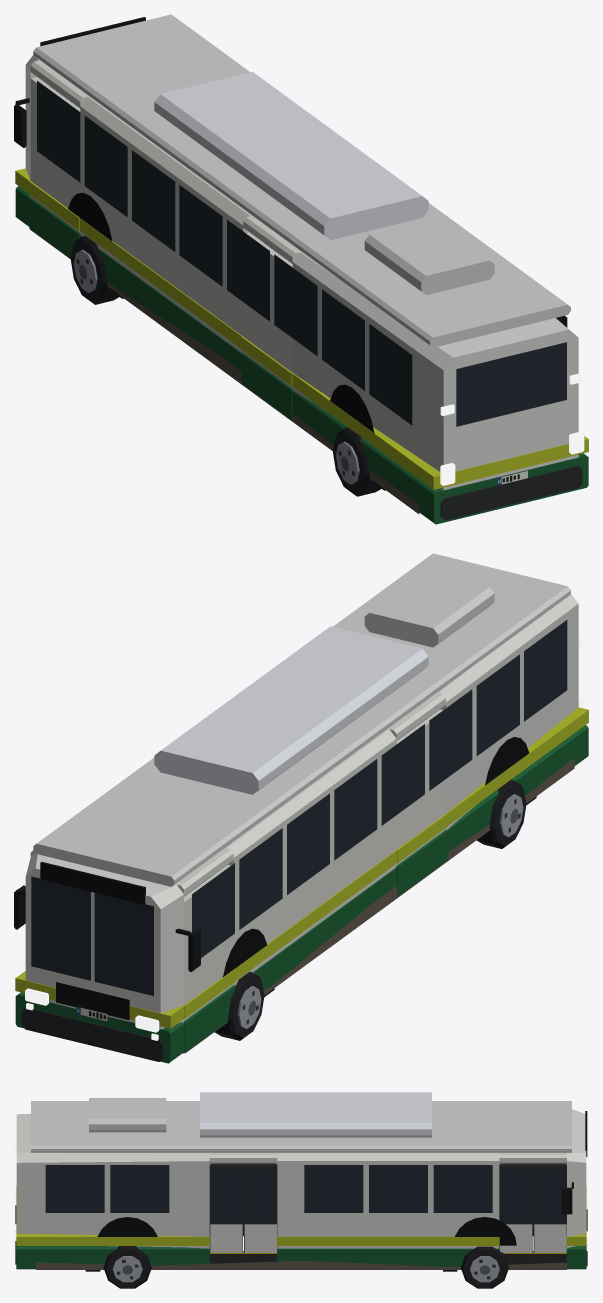
The model's file is bus.glb.
3 views of the same model, one above another, from view 1: azimuth 30°, elevation 25°; view 2: azimuth 150°, elevation 25°; view 3: azimuth 270°, elevation 25° (orthographic). The views are drawn at different scales.
Visible parts, largest first — view 1: body.013, wheel_RL.012, wheel_FL.012; view 2: body.013, wheel_RL.012, wheel_FL.012; view 3: body.013, door_mid_a, door_mid_b, door_front_a, door_front_b, wheel_FR.012, wheel_RR.012.
Boxes of the visible parts, <box> form: body.013: <box>14,14,588,524</box>; wheel_RL.012: <box>333,427,381,496</box>; wheel_FL.012: <box>70,235,118,304</box>; body.013: <box>14,553,588,1063</box>; wheel_RL.012: <box>476,779,526,848</box>; wheel_FL.012: <box>214,971,264,1040</box>; body.013: <box>14,1092,588,1271</box>; door_mid_a: <box>244,1164,277,1252</box>; door_mid_b: <box>209,1164,242,1252</box>; door_front_a: <box>533,1164,566,1252</box>; door_front_b: <box>499,1164,532,1252</box>; wheel_FR.012: <box>461,1246,508,1288</box>; wheel_RR.012: <box>103,1246,151,1288</box>.
Size of the model in its own units: 2.92 by 3.55 by 11.91.
